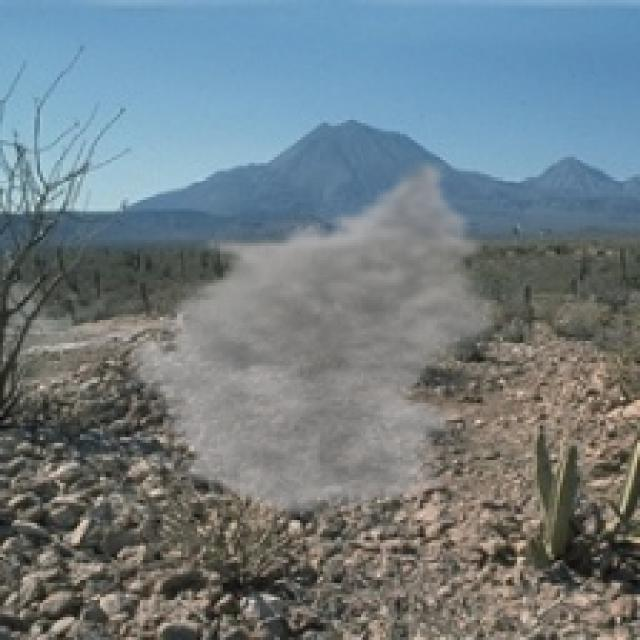smoke: (114, 157, 509, 520)
